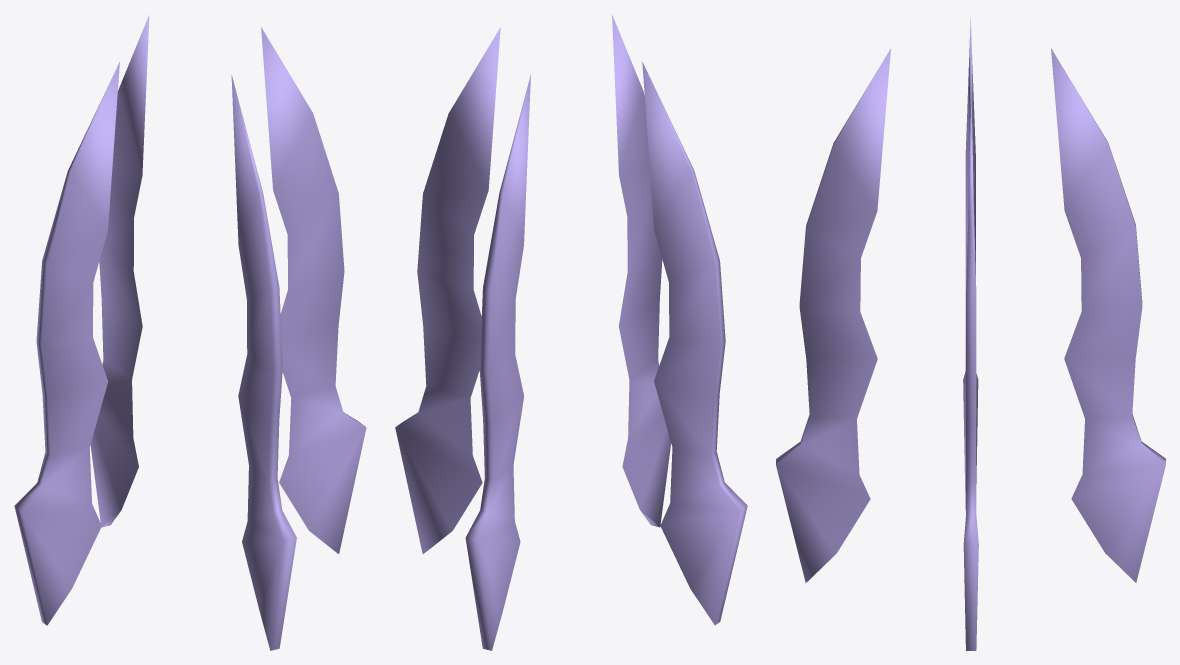
3 renders of one model, left to right at view 1: azimuth 30°, elevation 25°; view 2: azimuth 150°, elevation 25°; view 3: azimuth 270°, elevation 25°, orthographic. The views are drawn at different scales.
Visible parts, largest first — view 1: Object38; view 2: Object38; view 3: Object38.
Part boxes in pixels (box(x1,y1,x2,y2)): Object38: box(14, 15, 366, 650); Object38: box(395, 14, 747, 650); Object38: box(776, 17, 1165, 650).
Size of the model in its own units: 388 by 586 by 388.
